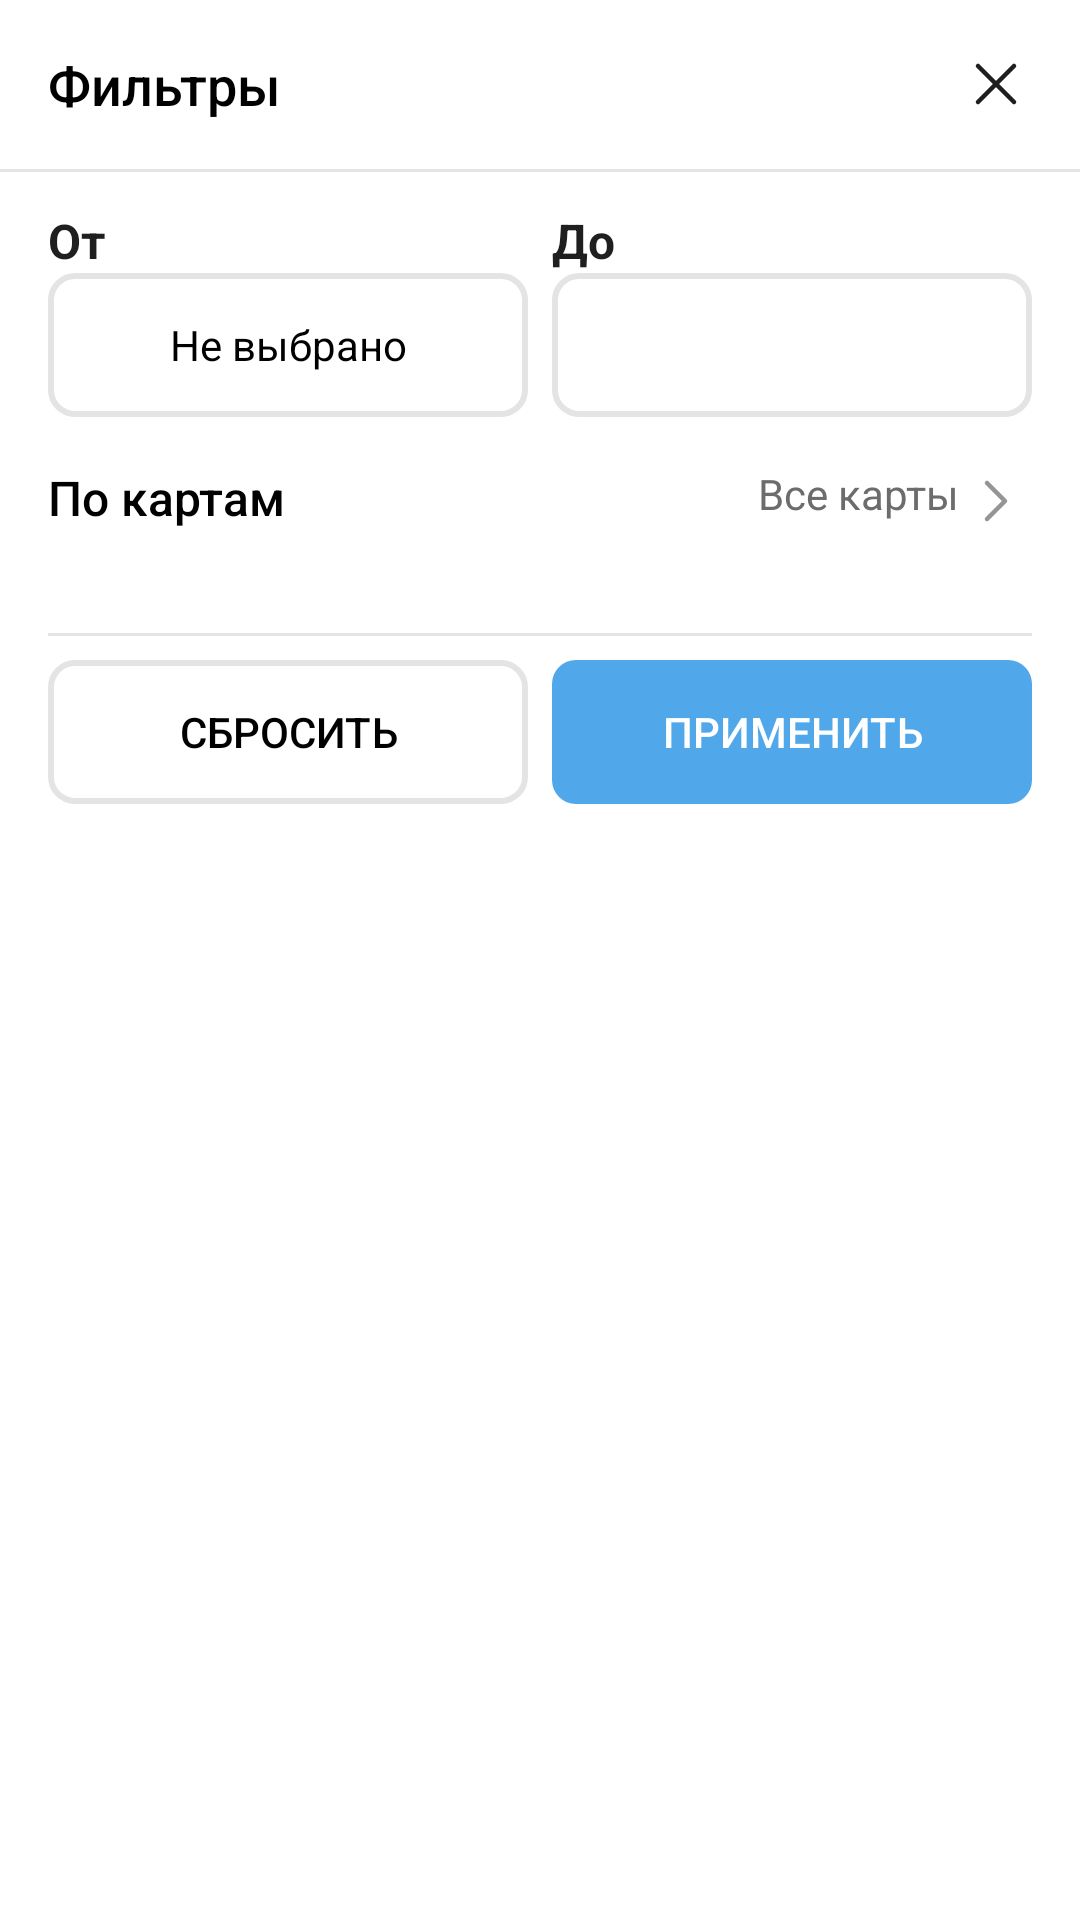

Where to tap for icons on this 1080x1920 app screen, as (x=x, y=y):
Close: (x=996, y=84)
next arrow: (x=996, y=501)
